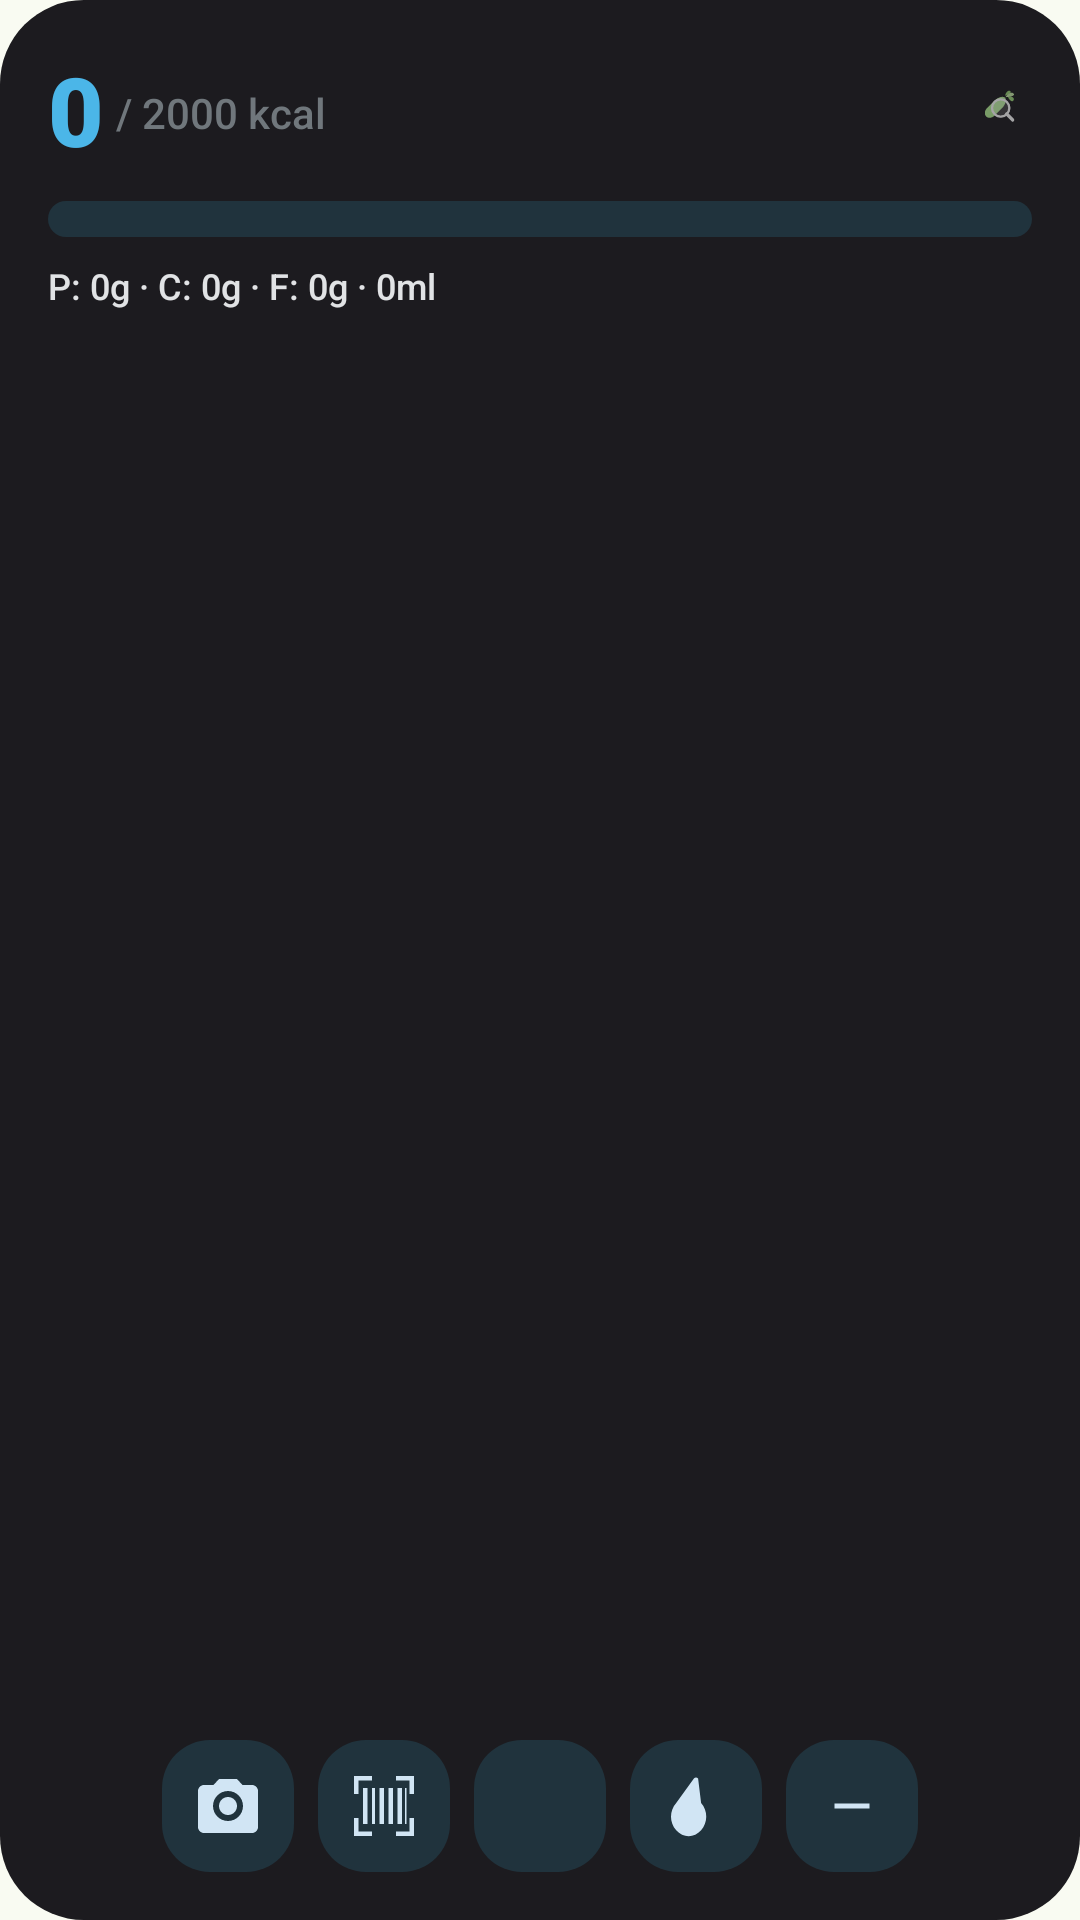

Screen size 1080x1920. Icon name, then its box in pixels as [x1, y1, x2, y2]:
Scan Barcode: [318, 1740, 450, 1872]
Take Photo: [162, 1740, 294, 1872]
Undo last entry: [786, 1740, 918, 1872]
Water today: [630, 1740, 762, 1872]
